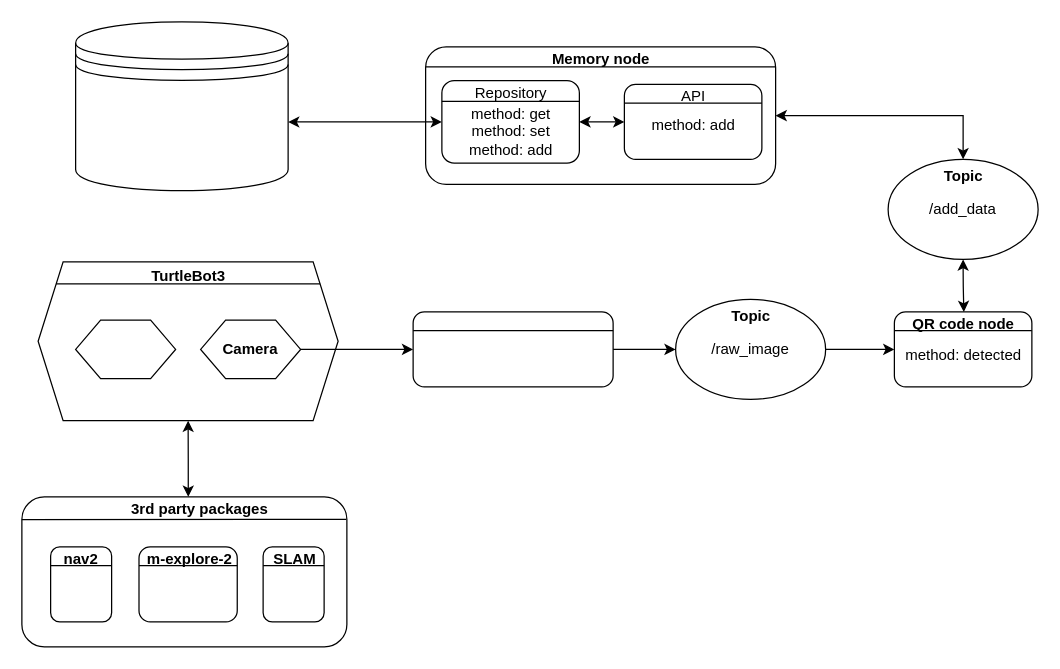
Some shapes in this 1060 by 669 pixel diagram are drawn without their labels. The shapes that lost their labels are listed below. From the top down, each one's box as (x1, y1, x2, y2) in pixels, then its label:
(74, 21, 288, 191): SQL database
(74, 319, 176, 379): Lidar
(412, 311, 613, 387): Camera node (V4L2)
